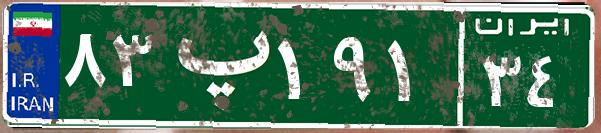1: (385, 28, 445, 110), (273, 28, 330, 110)
3: (475, 38, 525, 113), (110, 28, 158, 105)
4: (525, 38, 570, 115)
8: (57, 26, 110, 107)
9: (330, 28, 385, 110)
پ: (158, 15, 273, 115)
